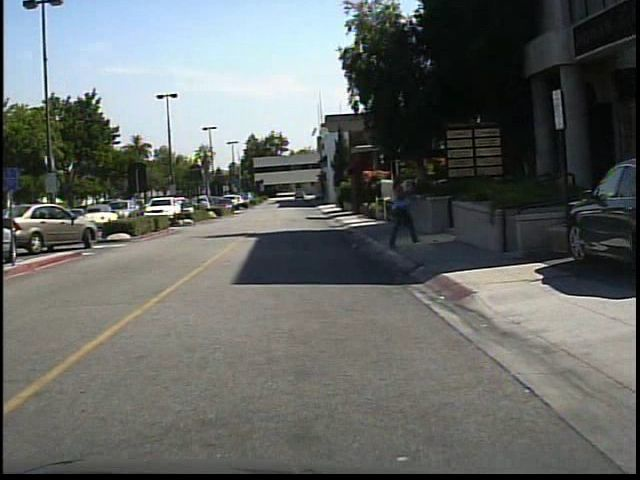person: (385, 170, 418, 251)
